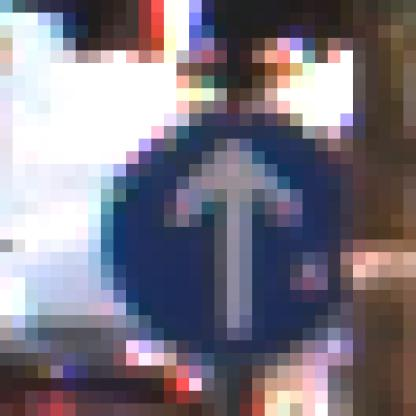AheadOnly: (77, 77, 354, 354)
